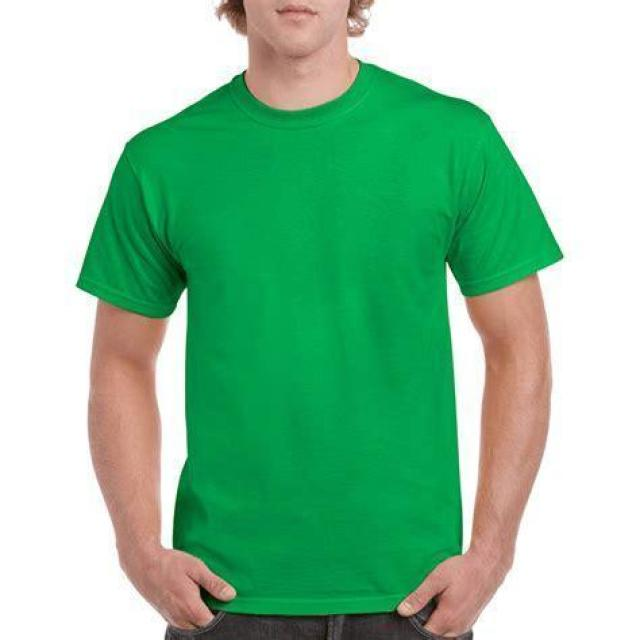Tshirt: (76, 58, 562, 620)
